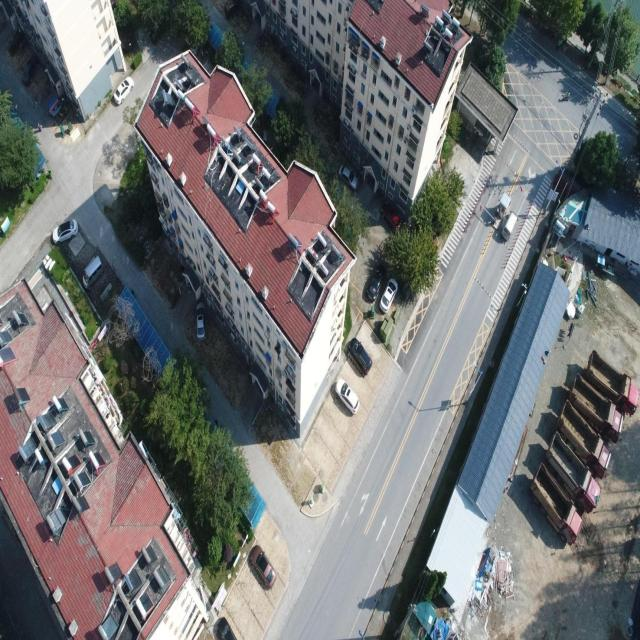p3rson: (556, 38, 561, 50), (36, 120, 41, 132)
